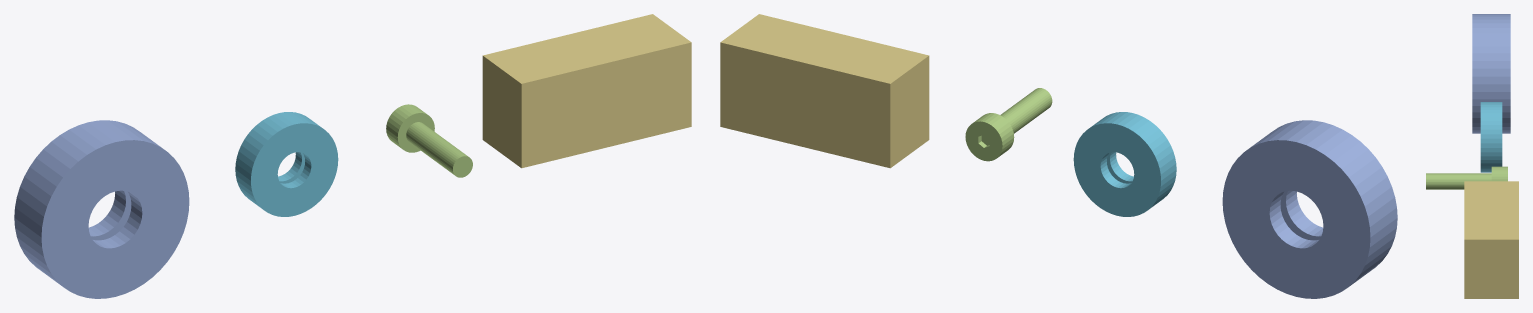
The model's file is find_vitamin_demo.glb.
The picture shows the model from 3 angles, left to right: view 1: azimuth 30°, elevation 25°; view 2: azimuth 150°, elevation 25°; view 3: azimuth 270°, elevation 25°; orthographic projection. The views are drawn at different scales.
Visible parts, largest first — view 1: motor_ga12-n20, bearing_608-2rs, bearing_695-2rs, fastener_iso4762-m3; view 2: motor_ga12-n20, bearing_608-2rs, bearing_695-2rs, fastener_iso4762-m3; view 3: motor_ga12-n20, bearing_608-2rs, bearing_695-2rs, fastener_iso4762-m3.
Boxes of the visible parts, bbox=[...] form: motor_ga12-n20: bbox=[482, 14, 691, 168]; bearing_608-2rs: bbox=[14, 120, 189, 298]; bearing_695-2rs: bbox=[235, 112, 338, 216]; fastener_iso4762-m3: bbox=[386, 104, 472, 177]; motor_ga12-n20: bbox=[720, 14, 929, 168]; bearing_608-2rs: bbox=[1222, 120, 1397, 298]; bearing_695-2rs: bbox=[1073, 112, 1176, 216]; fastener_iso4762-m3: bbox=[965, 88, 1052, 161]; motor_ga12-n20: bbox=[1464, 181, 1518, 298]; bearing_608-2rs: bbox=[1472, 14, 1510, 133]; bearing_695-2rs: bbox=[1480, 102, 1502, 172]; fastener_iso4762-m3: bbox=[1426, 166, 1507, 189].
Bounding box in the file's own units: 95.82 × 22 × 17.
